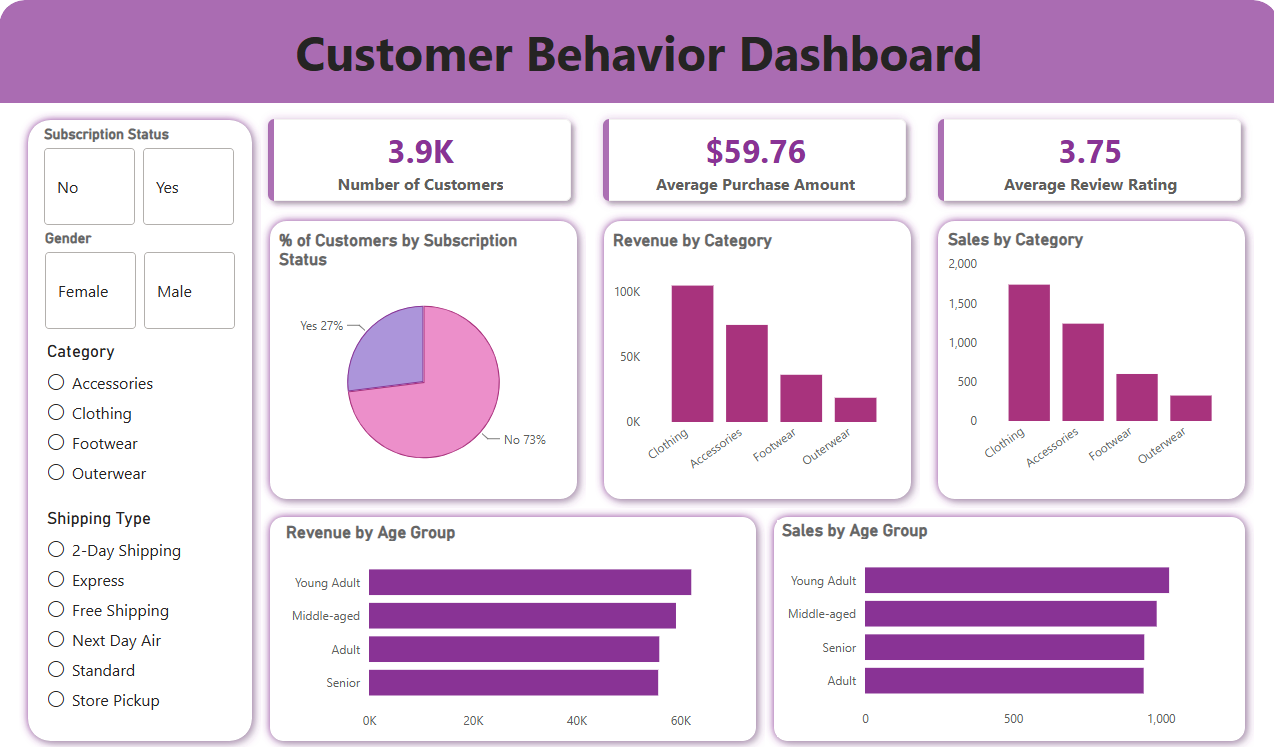

Layout of this report page (visuals, bound fields, positions):
{"tool":"powerbi","page":{"name":"Page 1","canvas":[1280,750],"ordinal":0},"visuals":[{"type":"cardVisual","fields":{"Data":["customer_behavior_analysis customer_data.Number of Customers","customer_behavior_analysis customer_data.Average Purchase Amount","customer_behavior_analysis customer_data.Average Review Rating"]},"box":[240,90,1031,140],"z":0},{"type":"shape","box":[0,0,1280,103],"z":1000},{"type":"textbox","box":[0,14,1280,76],"z":2000},{"type":"shape","box":[20,111,242,639],"z":3000},{"type":"shape","box":[262,212,325,296],"z":4000},{"type":"shape","box":[596,212,325,296],"z":5000},{"type":"shape","box":[930,212,325,296],"z":6000},{"type":"shape","box":[262,508,504,242],"z":7000},{"type":"shape","box":[766,508,489,242],"z":8000},{"type":"pieChart","title":"% of Customers by Subscription Status","fields":{"Category":["customer_behavior_analysis customer_data.subscription_status"],"Y":["CountNonNull(customer_behavior_analysis customer_data.customer_id)"]},"box":[275,230,299,262],"z":9000},{"type":"clusteredColumnChart","title":"Revenue by Category","fields":{"Y":["Sum(customer_behavior_analysis customer_data.purchase_amount)"],"Category":["customer_behavior_analysis customer_data.category"]},"box":[609,230,297,262],"z":10000},{"type":"clusteredColumnChart","title":"Sales by Category","fields":{"Y":["CountNonNull(customer_behavior_analysis customer_data.customer_id)"],"Category":["customer_behavior_analysis customer_data.category"]},"box":[944,229,297,262],"z":11000},{"type":"advancedSlicerVisual","title":"Subscription Status","fields":{"Values":["customer_behavior_analysis customer_data.subscription_status"]},"box":[40,126,200,104],"z":12000},{"type":"advancedSlicerVisual","title":"Gender","fields":{"Values":["customer_behavior_analysis customer_data.gender"]},"box":[41,230,200,104],"z":13000},{"type":"listSlicer","fields":{"Values":["customer_behavior_analysis customer_data.shipping_type"]},"box":[43,508,197,211],"z":14000},{"type":"listSlicer","fields":{"Values":["customer_behavior_analysis customer_data.category"]},"box":[43,341,197,160],"z":15000},{"type":"clusteredBarChart","title":"Revenue by Age Group","fields":{"Y":["Sum(customer_behavior_analysis customer_data.purchase_amount)"],"Category":["customer_behavior_analysis customer_data.age_group"]},"box":[282,522,466,217],"z":16000},{"type":"clusteredBarChart","title":"Sales by Age Group","fields":{"Y":["CountNonNull(customer_behavior_analysis customer_data.customer_id)"],"Category":["customer_behavior_analysis customer_data.age_group"]},"box":[778,520,463,217],"z":17000}]}

Visuals, with their boxes in screenshot pixels (x1, y1, x2, y2), scaled from the page's 1280x750 canvas onto the 1274x747 screenshot:
cardVisual - customer_behavior_analysis customer_data.Number of Customers x customer_behavior_analysis customer_data.Average Purchase Amount: BBox(239, 90, 1265, 229)
shape: BBox(0, 0, 1273, 103)
textbox: BBox(0, 14, 1273, 90)
shape: BBox(20, 111, 261, 746)
shape: BBox(261, 211, 584, 506)
shape: BBox(593, 211, 917, 506)
shape: BBox(926, 211, 1249, 506)
shape: BBox(261, 506, 762, 746)
shape: BBox(762, 506, 1249, 746)
"% of Customers by Subscription Status" pieChart: BBox(274, 229, 571, 490)
"Revenue by Category" clusteredColumnChart: BBox(606, 229, 902, 490)
"Sales by Category" clusteredColumnChart: BBox(940, 228, 1235, 489)
"Subscription Status" advancedSlicerVisual: BBox(40, 125, 239, 229)
"Gender" advancedSlicerVisual: BBox(41, 229, 240, 333)
listSlicer - customer_behavior_analysis customer_data.shipping_type: BBox(43, 506, 239, 716)
listSlicer - customer_behavior_analysis customer_data.category: BBox(43, 340, 239, 499)
"Revenue by Age Group" clusteredBarChart: BBox(281, 520, 744, 736)
"Sales by Age Group" clusteredBarChart: BBox(774, 518, 1235, 734)
